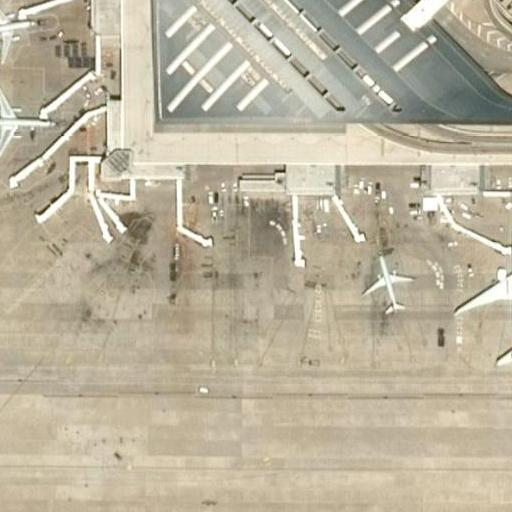Aircraft: (448, 211, 512, 368), (356, 251, 416, 320), (0, 78, 47, 159), (0, 0, 36, 59)
